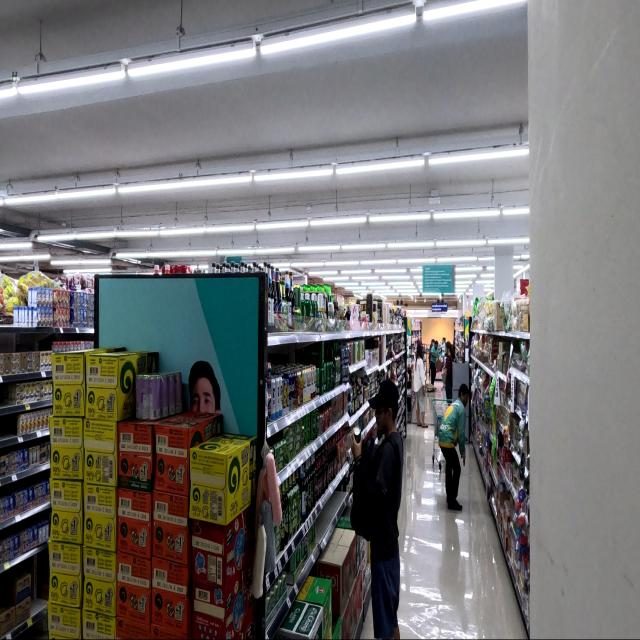shoplifting: (351, 379, 402, 640)
